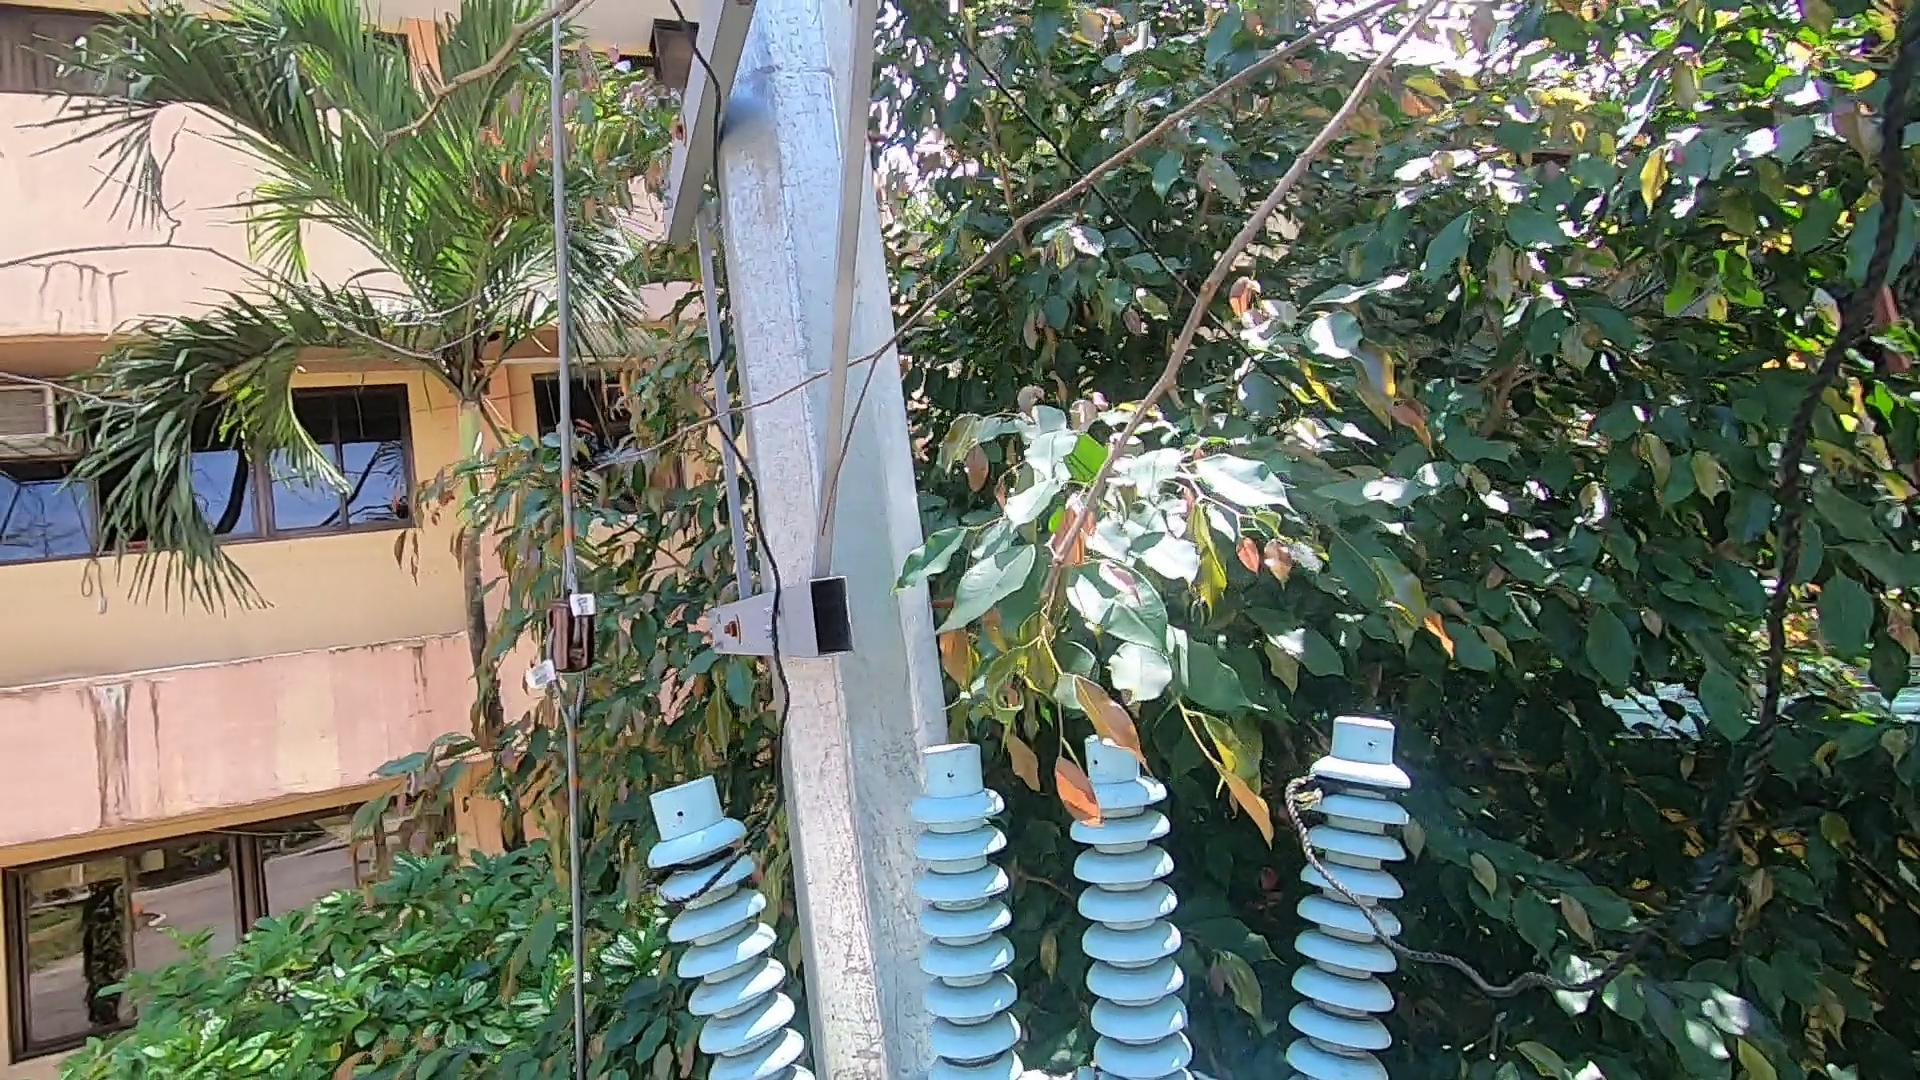branch with leaves: (1047, 661, 1176, 866)
tree branch: (460, 224, 1065, 522)
